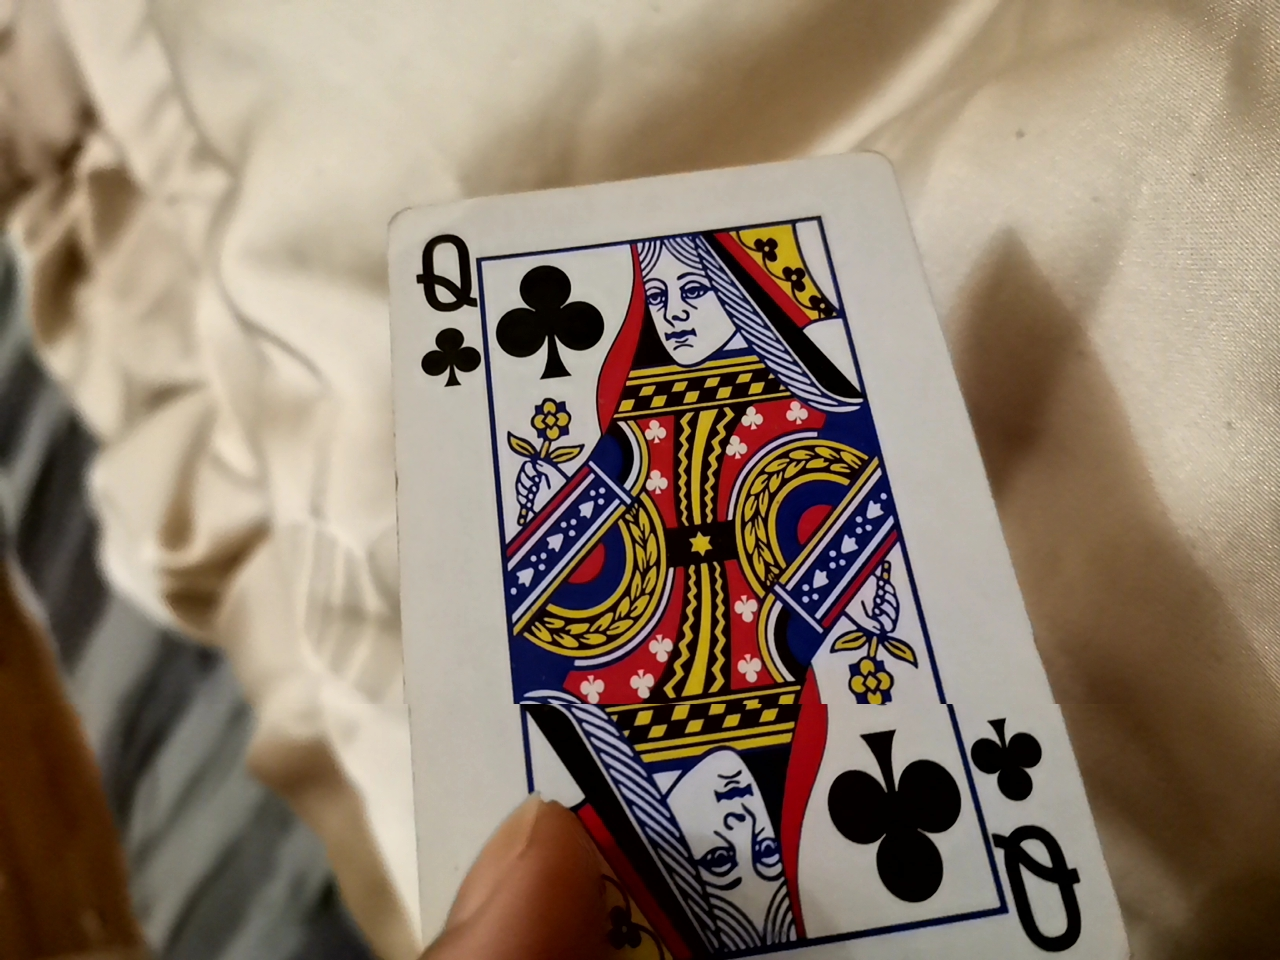mh q: (364, 117, 1099, 960)
